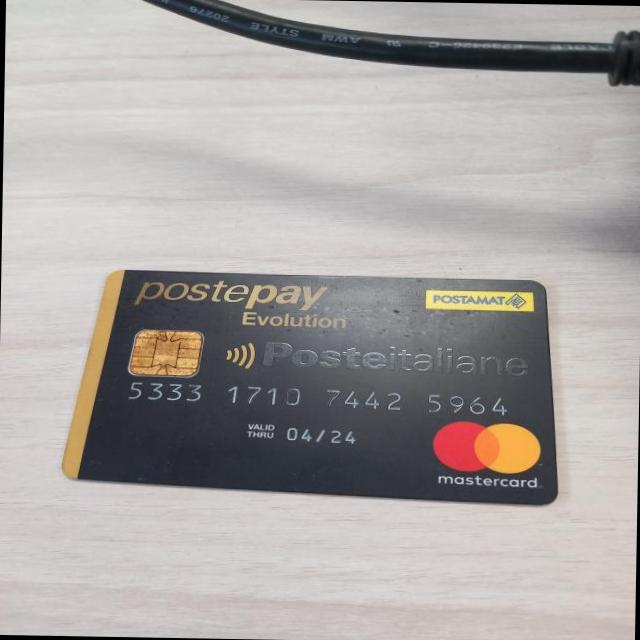card: (59, 258, 573, 512)
